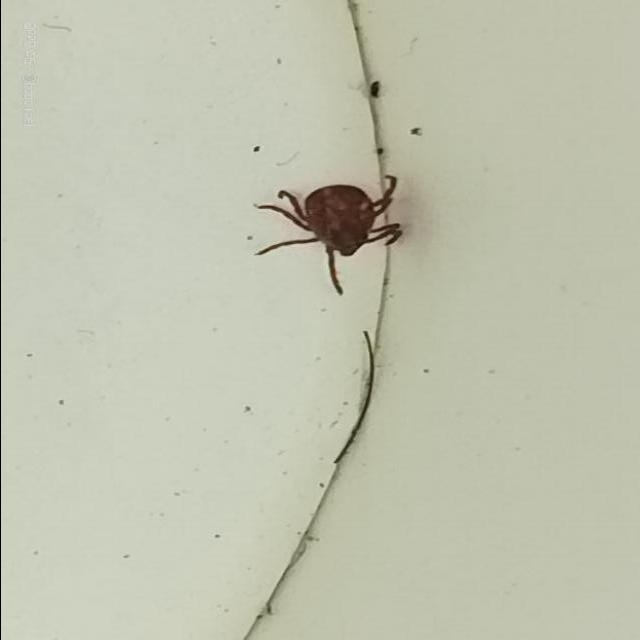Rhipicephalus Sanguineus-M: (252, 175, 403, 297)
